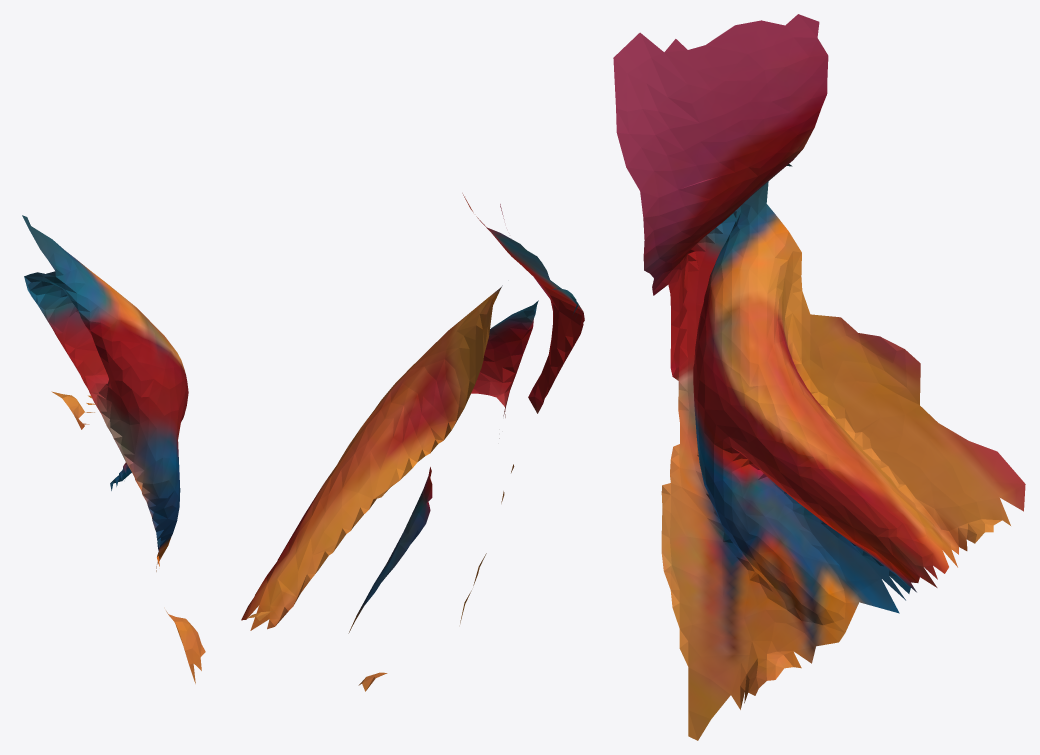
The picture shows the model from 3 angles, left to right: view 1: azimuth 30°, elevation 25°; view 2: azimuth 150°, elevation 25°; view 3: azimuth 270°, elevation 25°; orthographic projection. The views are drawn at different scales.
Parts seen in each view (by area): view 1: tripo_mesh_045d8eb0-72ec-4624-9759-a425f321d17a; view 2: tripo_mesh_045d8eb0-72ec-4624-9759-a425f321d17a; view 3: tripo_mesh_045d8eb0-72ec-4624-9759-a425f321d17a.
Boxes of the visible parts, x1,y1,x2,y2 form: tripo_mesh_045d8eb0-72ec-4624-9759-a425f321d17a: [22, 215, 205, 683]; tripo_mesh_045d8eb0-72ec-4624-9759-a425f321d17a: [241, 193, 584, 691]; tripo_mesh_045d8eb0-72ec-4624-9759-a425f321d17a: [613, 14, 1025, 740].
Size of the model in its own units: 0.0558 by 0.177 by 0.0973.
1 material, 1 textured.
